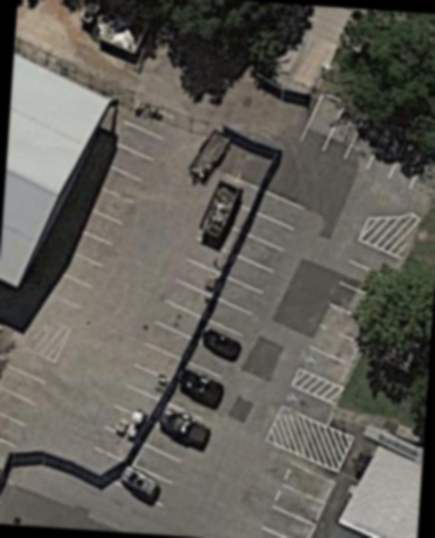parkingspot: (89, 186, 309, 508), (33, 95, 178, 314), (109, 234, 233, 421), (296, 236, 405, 389), (296, 91, 435, 192), (251, 456, 339, 538), (0, 341, 59, 451), (277, 382, 338, 428)
